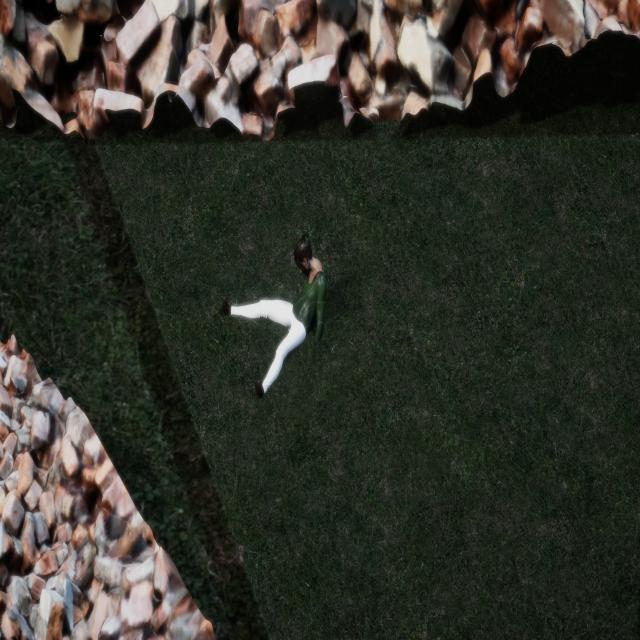Human: (214, 225, 341, 426)
